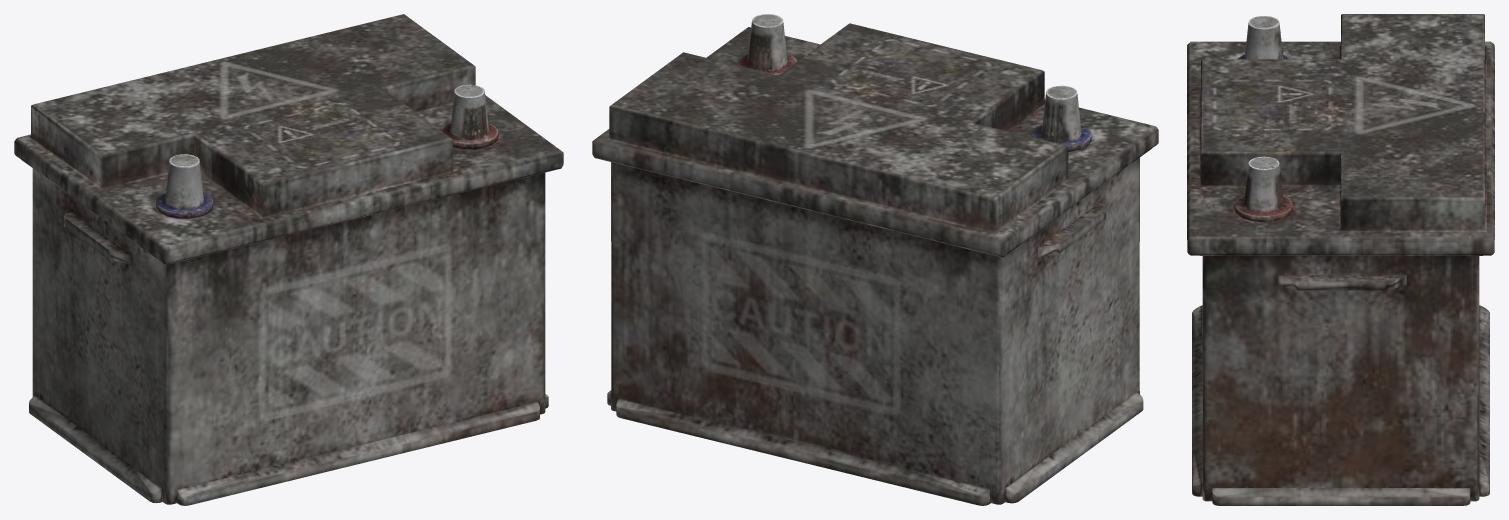
File: car_battery.glb
The picture shows the model from 3 angles, left to right: view 1: azimuth 30°, elevation 25°; view 2: azimuth 150°, elevation 25°; view 3: azimuth 270°, elevation 25°; orthographic projection. The views are drawn at different scales.
Visible parts, largest first — view 1: batt_low; view 2: batt_low; view 3: batt_low.
Boxes of the visible parts, left/top/right/bottom form: batt_low: left=14, top=14, right=563, bottom=505; batt_low: left=592, top=14, right=1158, bottom=505; batt_low: left=1187, top=14, right=1494, bottom=505.
Bounding box in the file's own units: 0.3 × 0.2217 × 0.1961.
Materials: 1 (1 with a texture image).
